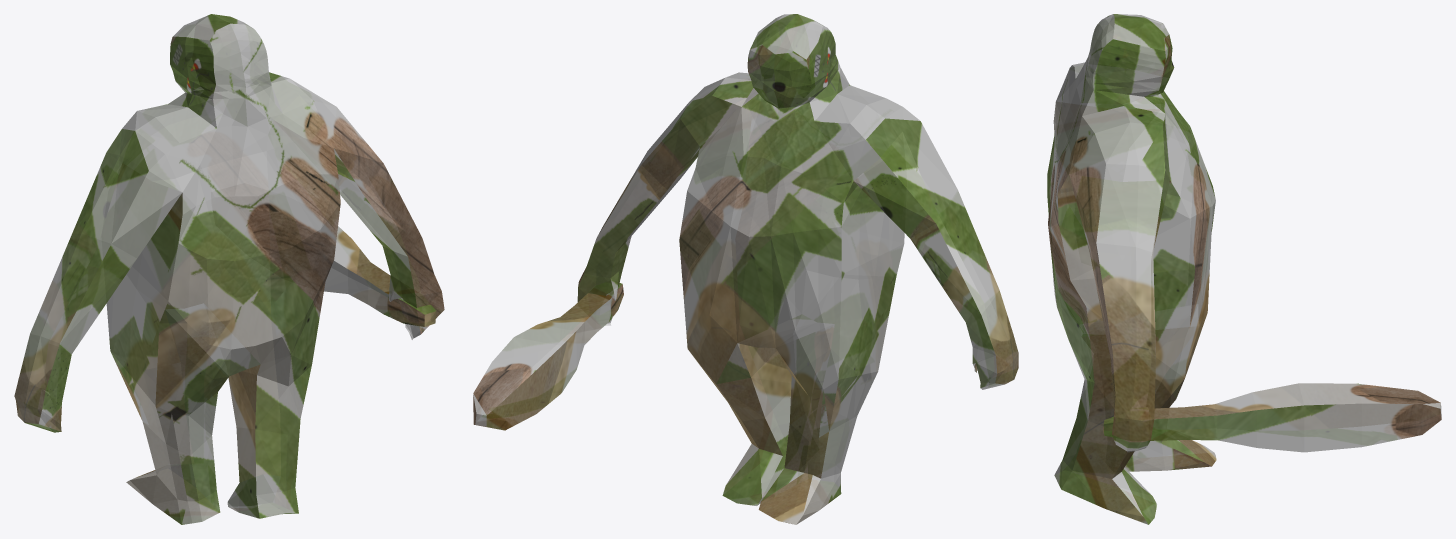
Rendered from Enemigo216.obj.
3 renders of one model, left to right at view 1: azimuth 30°, elevation 25°; view 2: azimuth 150°, elevation 25°; view 3: azimuth 270°, elevation 25°, orthographic. The views are drawn at different scales.
Visible parts, largest first — view 1: Cube; view 2: Cube; view 3: Cube.
Part boxes in pixels (x1=…): Cube: x1=14, y1=14, x2=444, y2=524; Cube: x1=473, y1=14, x2=1018, y2=524; Cube: x1=1047, y1=14, x2=1441, y2=524.
Bounding box in the file's own units: 2.52 × 2.83 × 2.11.
